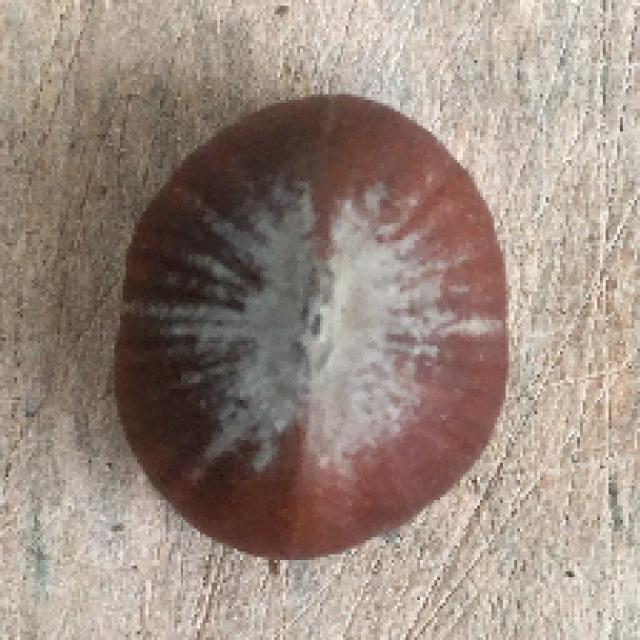qualityHazelnut: (119, 88, 507, 559)
